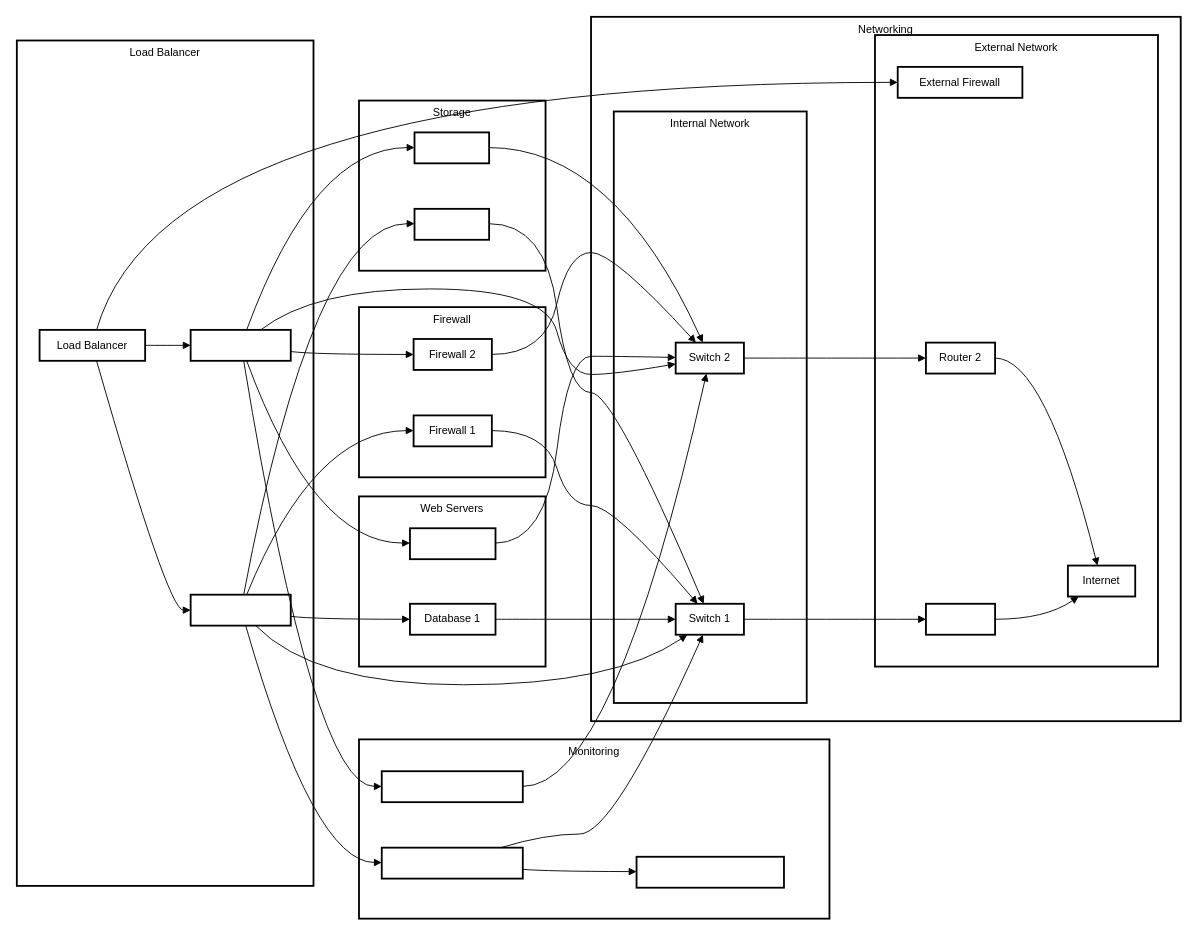
The diagram is 1197 pixels wide and 935 high, and some of its shapes have lost their labels. Each missing label, with the centre of its shape:
Database 2: the point at 452,543
Monitoring Database: the point at 709,871
Monitoring Server 1: the point at 451,862
Monitoring Server 2: the point at 451,786
Router 1: the point at 960,618
Storage 1: the point at 451,223
Storage 2: the point at 451,147
Web Server 1: the point at 240,609
Web Server 2: the point at 240,345
